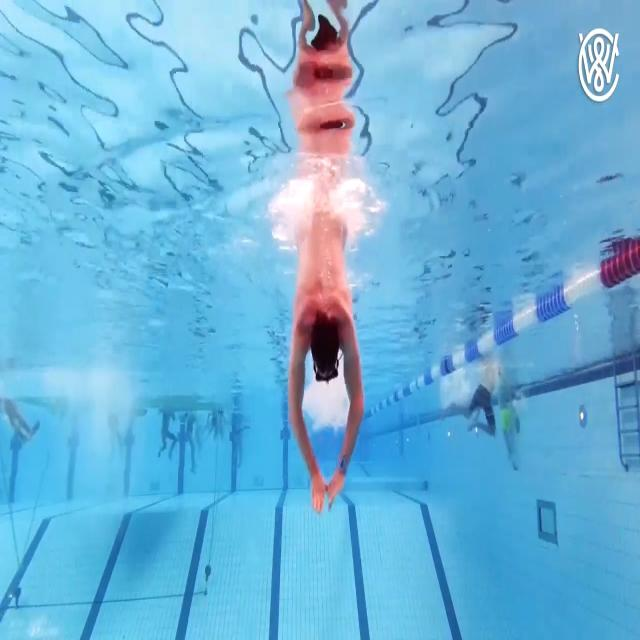Swimming: (288, 206, 364, 515), (448, 363, 506, 438)
